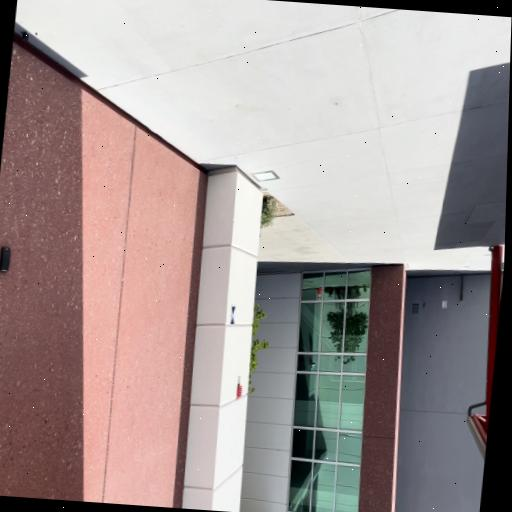target9: (230, 305, 236, 324)
